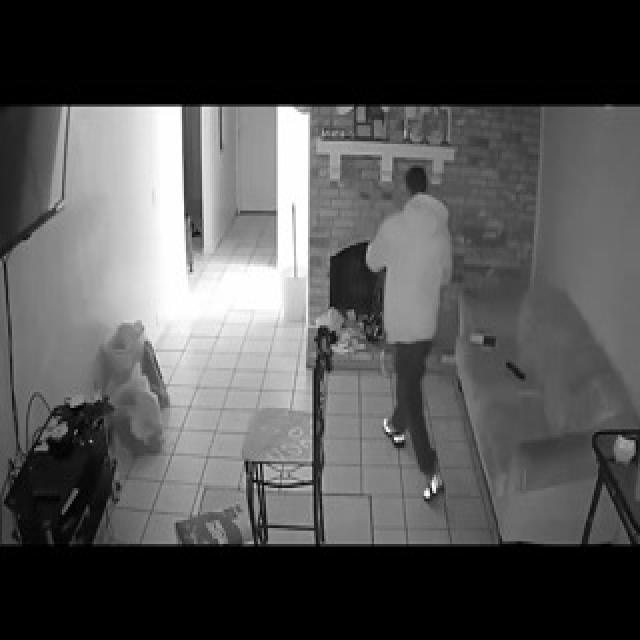thief: (384, 165, 454, 302)
